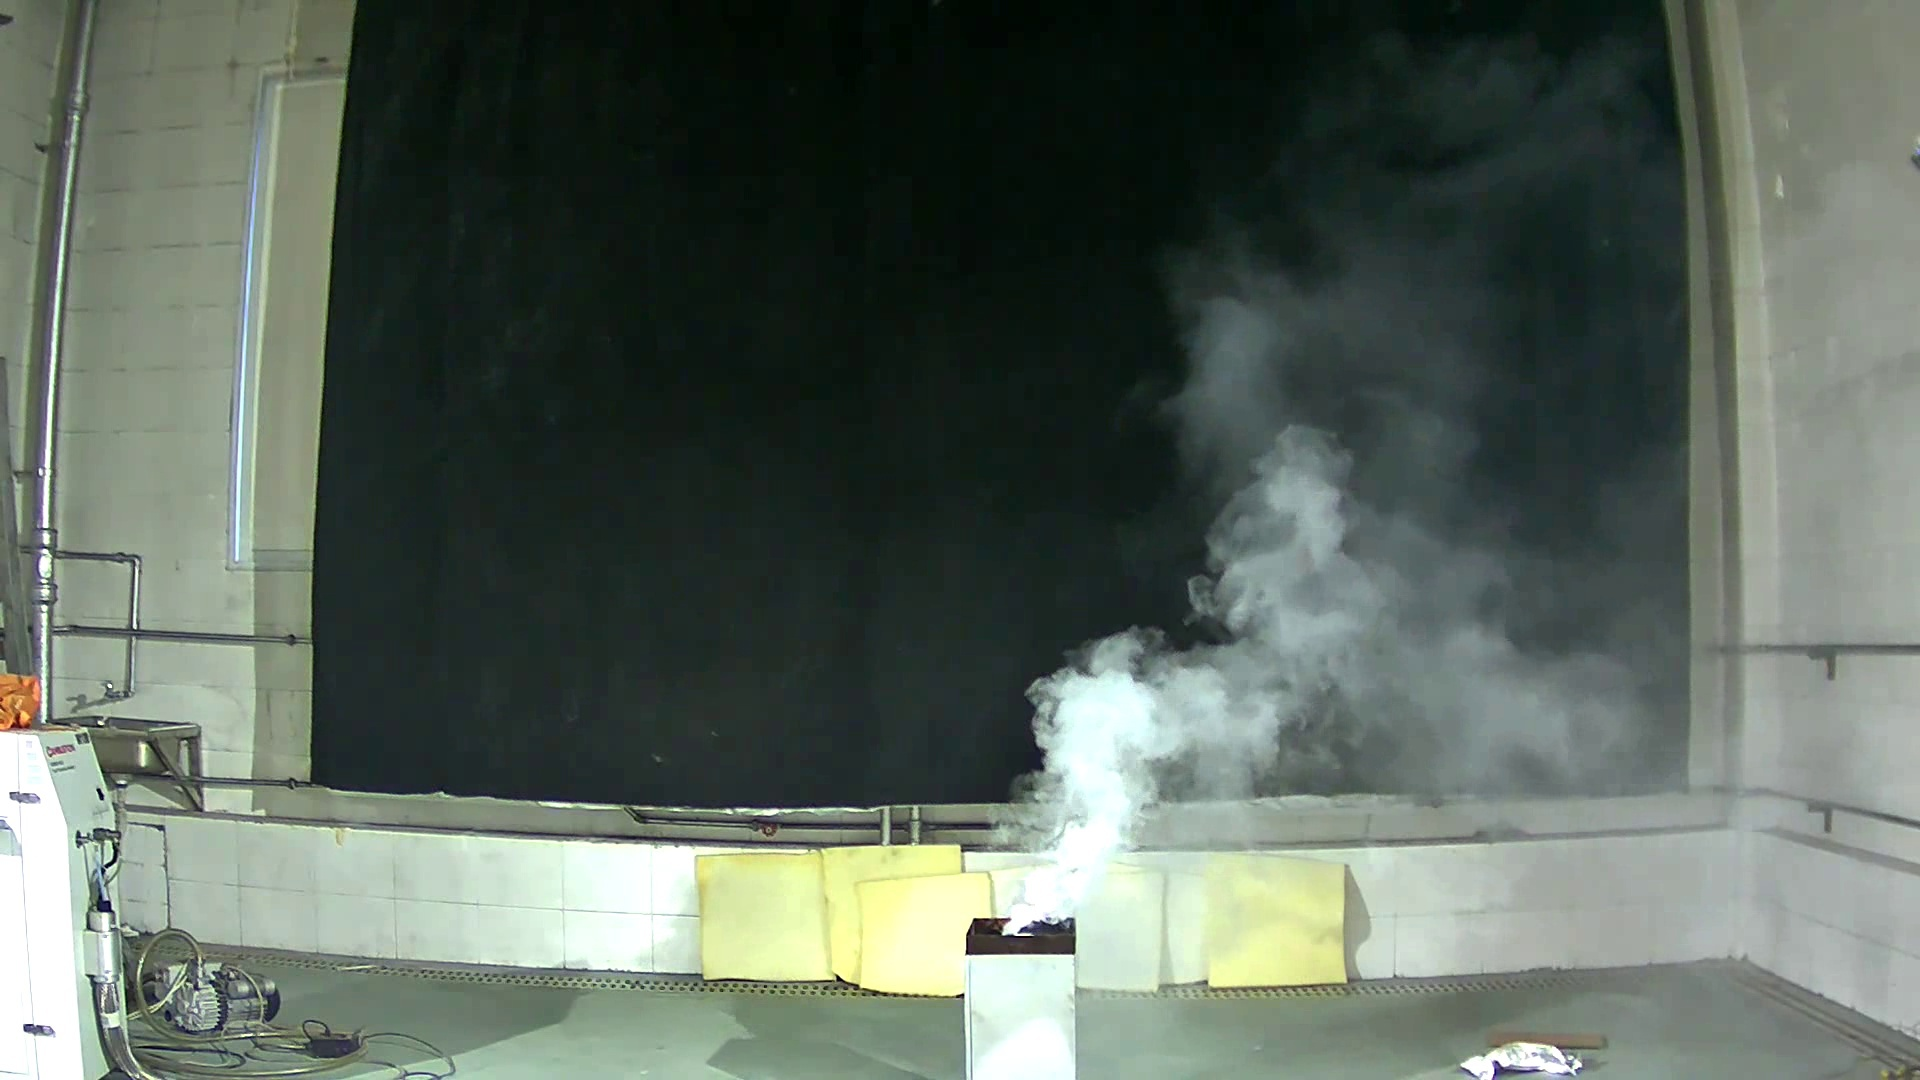smoke: (1013, 251, 1606, 897)
